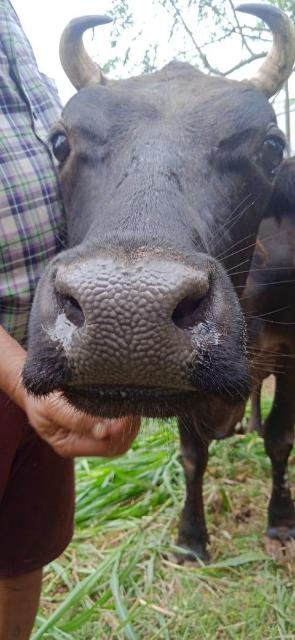Muzzle: (55, 258, 210, 394)
